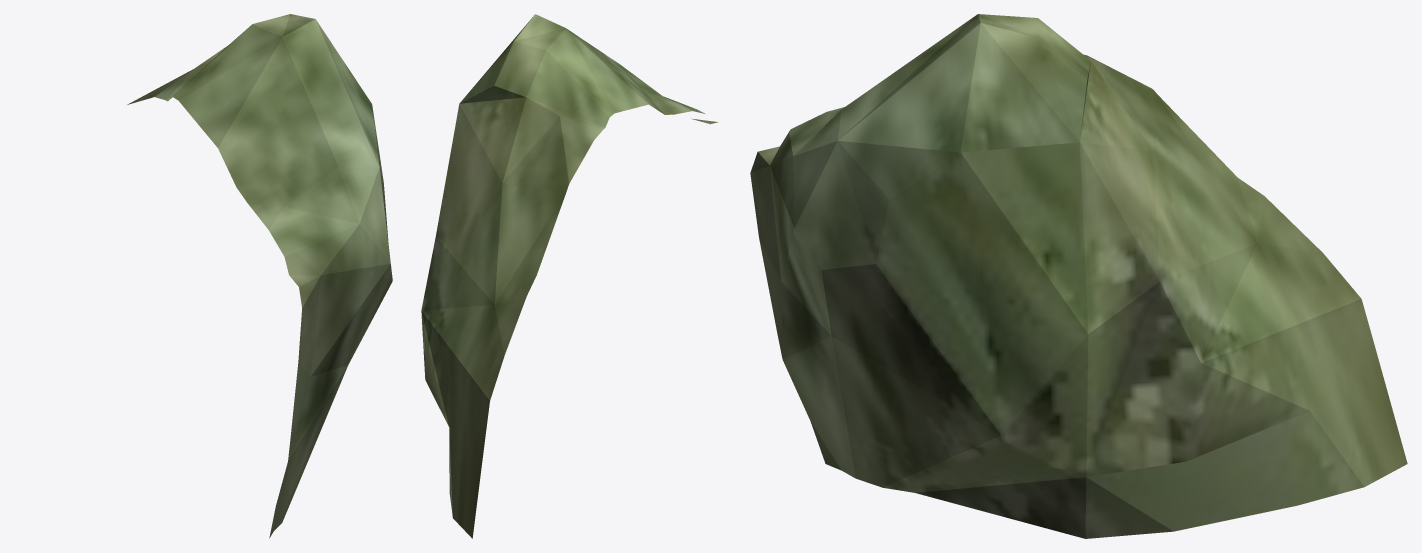
3 views of the same model, side by side, from view 1: azimuth 30°, elevation 25°; view 2: azimuth 150°, elevation 25°; view 3: azimuth 270°, elevation 25° (orthographic). The views are drawn at different scales.
Size of the model in its own units: 0.3715 by 0.8723 by 1.03.
1 material, 1 textured.
